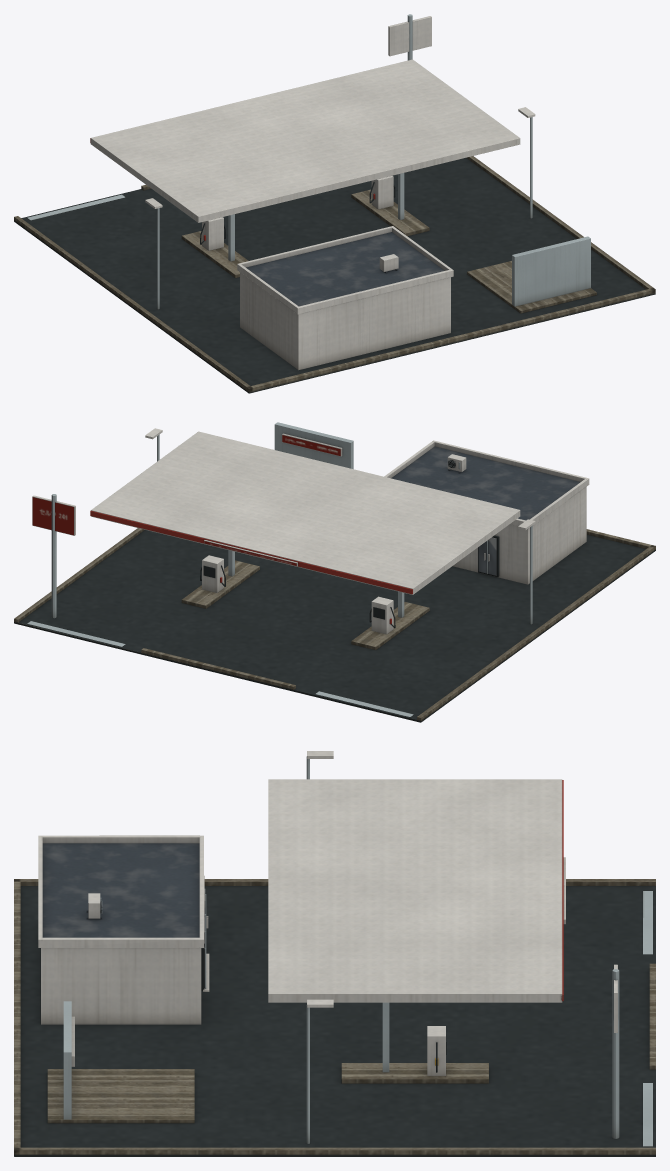
Rendered from fuel_urban_001.obj.
3 renders of one model, top to bottom at view 1: azimuth 30°, elevation 25°; view 2: azimuth 150°, elevation 25°; view 3: azimuth 270°, elevation 25°, orthographic. The views are drawn at different scales.
Visible parts, largest first — view 1: fuel_urban_001; view 2: fuel_urban_001; view 3: fuel_urban_001.
Boxes of the visible parts, <box> form: fuel_urban_001: <box>14,14,655,393</box>; fuel_urban_001: <box>14,422,655,722</box>; fuel_urban_001: <box>14,751,655,1156</box>.
Size of the model in its own units: 24.01 by 7 by 24.01.
1 material, 1 textured.
